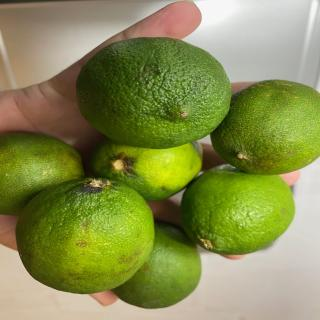Chilli: (75, 36, 232, 150)
Lemon: (15, 177, 155, 295), (210, 79, 320, 175), (180, 164, 296, 255), (111, 221, 202, 309), (90, 137, 203, 202), (0, 131, 86, 216)
